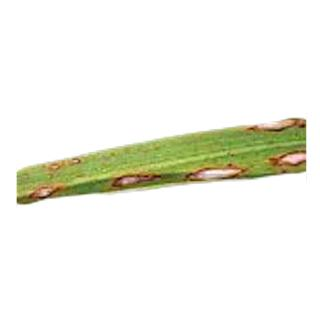Blast: (180, 156, 256, 188), (259, 135, 307, 177), (242, 112, 304, 142), (103, 163, 163, 193), (18, 178, 81, 205), (45, 156, 85, 170)
